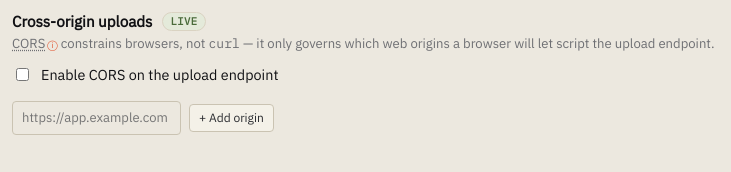
CorsSection › rejects a non-origin with an inline error
Type "not a url" into the field with placeholder "https://app.example.com" at (96, 118), box x1=12 y1=101 x2=181 y2=135
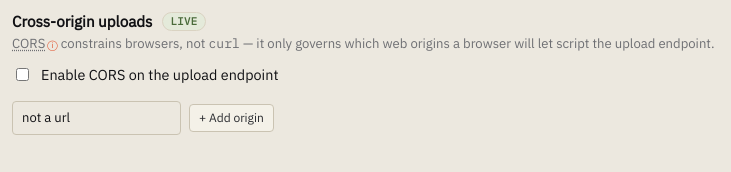
Click the button "+ Add origin" at (231, 118), box x1=189 y1=104 x2=274 y2=132
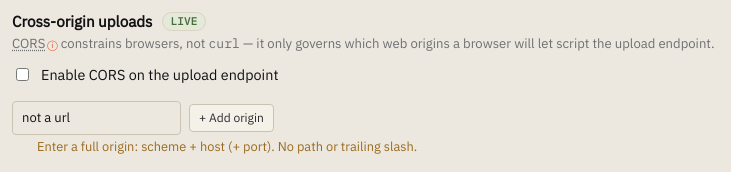
Expected: the text "No path or trailing slash" is shown, x1=37 y1=138 x2=417 y2=155
